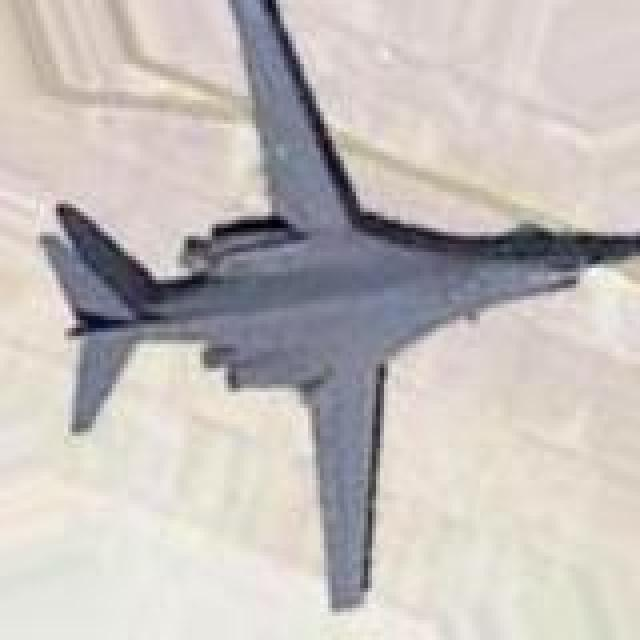B-1_TopDown: (32, 0, 636, 612)
